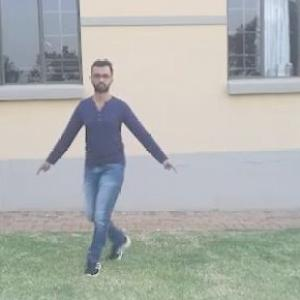land: (40, 69, 166, 244)
